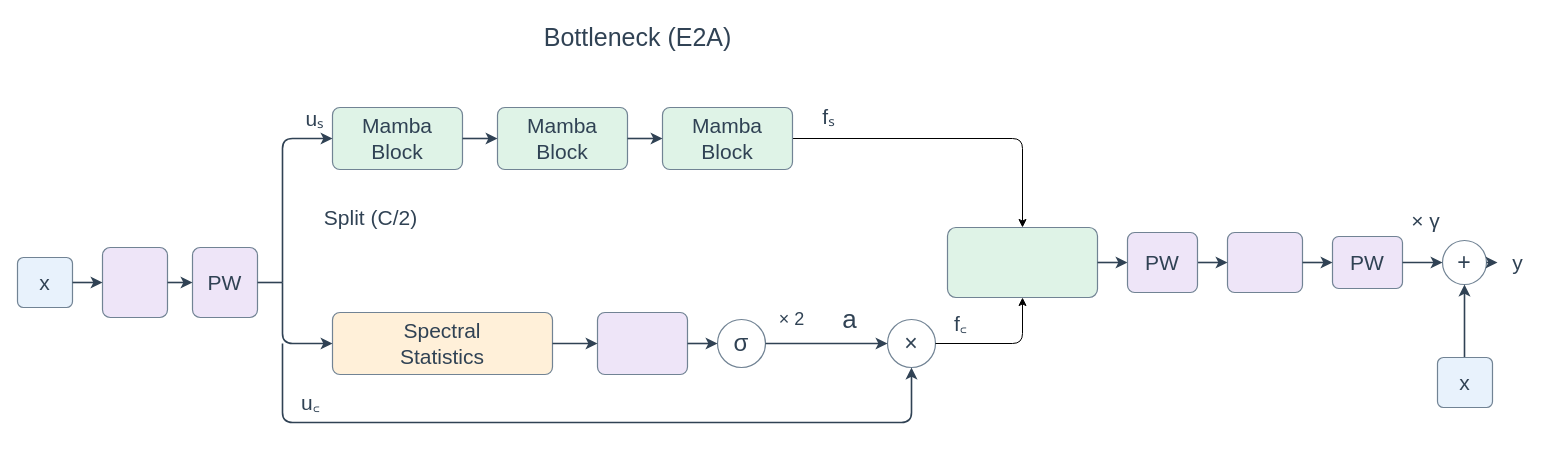
Some shapes in this 1555 by 449 pixel diagram are drawn without their labels. Here are the shapes that lost their labels. From the top down, the centre of each, then its label:
point 134,282: DW
point 1022,262: Adaptive Fusion
point 1264,262: FFN
point 642,343: MLP
